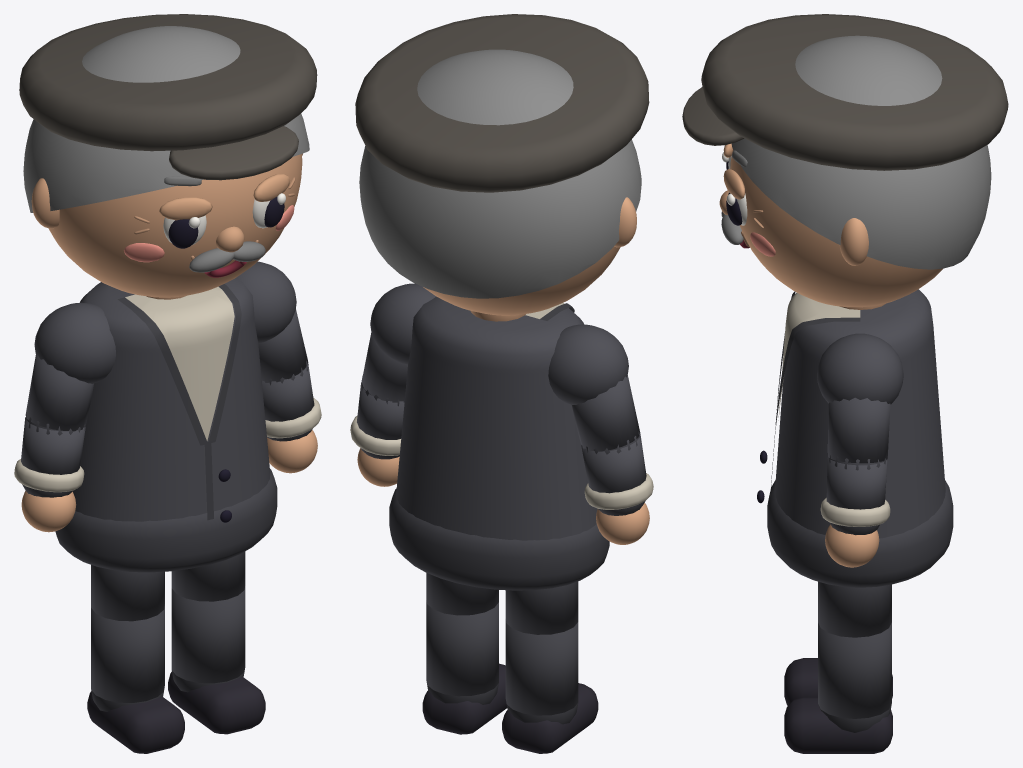
Rendered from ch_taxi.fbx.
3 views of the same model, side by side, from view 1: azimuth 30°, elevation 25°; view 2: azimuth 150°, elevation 25°; view 3: azimuth 270°, elevation 25° (orthographic).
Visible parts, largest first — view 1: ch_taxi; view 2: ch_taxi; view 3: ch_taxi.
Boxes of the visible parts, x1,y1,x2,y2 form: ch_taxi: [14, 14, 321, 753]; ch_taxi: [350, 14, 653, 753]; ch_taxi: [682, 14, 1008, 753].
Size of the model in its own units: 0.7038 by 1.54 by 0.6715.
